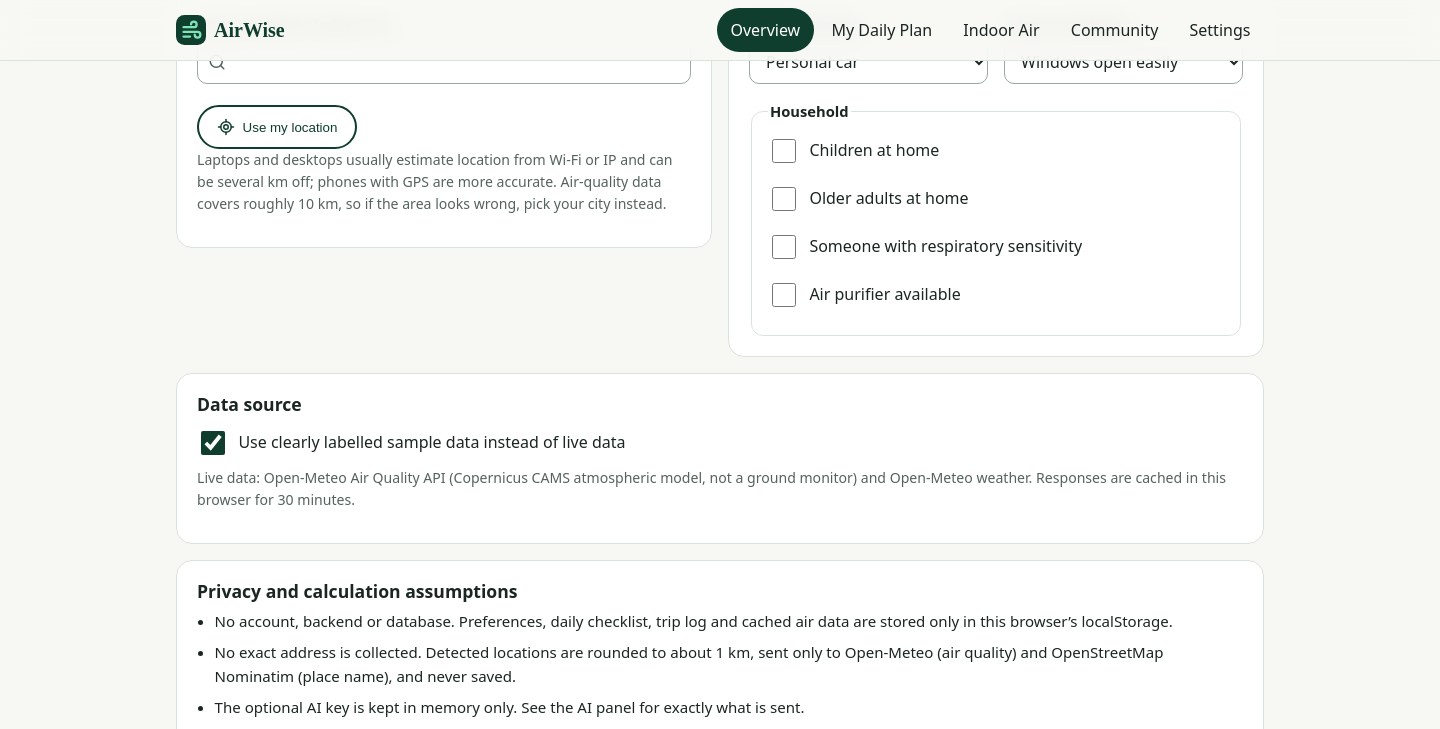
Test: settings interactions › lets the user change city, switch off sample data and cancel a reset
(page scrolled)
Click the checkbox labelled "Use clearly labelled sample data instead of live data": (213, 443) [201,431,225,455]
(page scrolled)
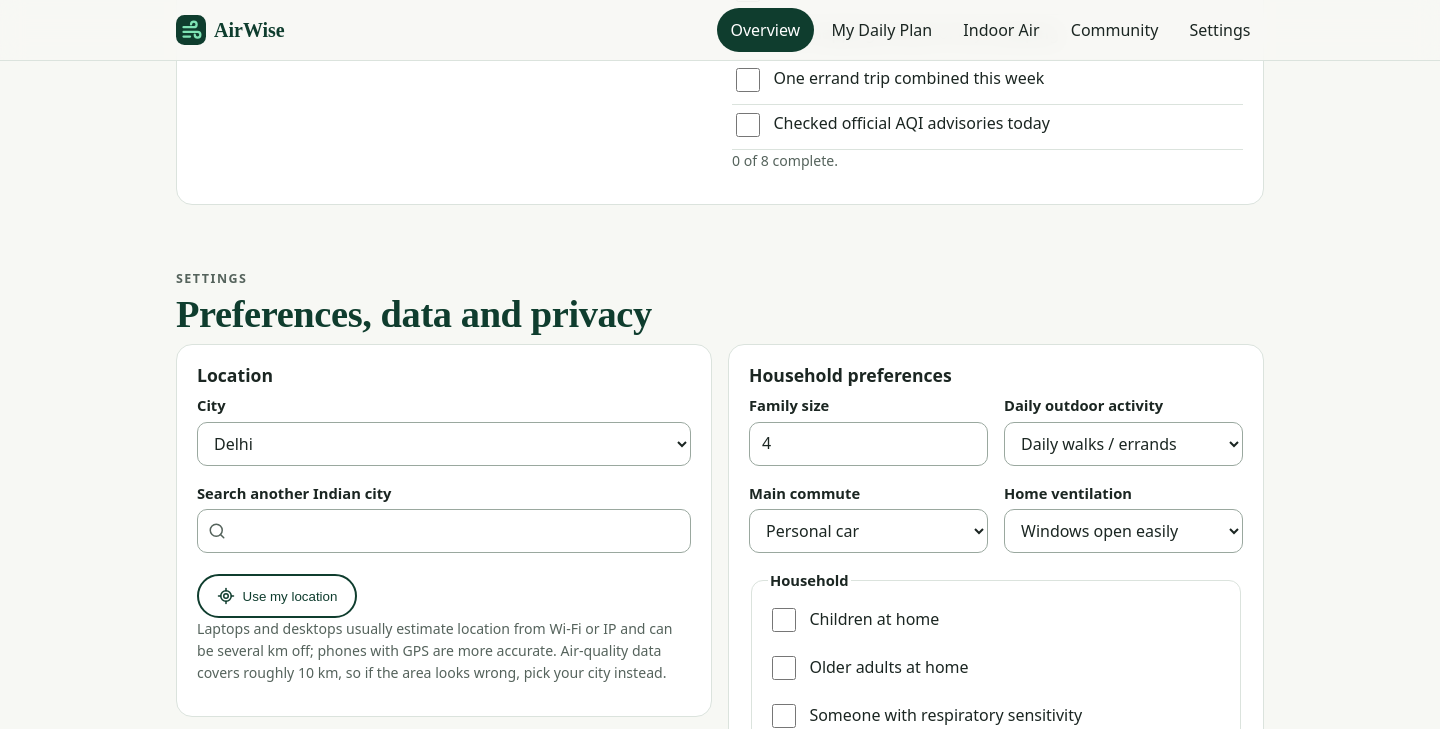
Select "Mumbai" in the dropdown labelled "City": (444, 444) [197,422,691,466]
(page scrolled)
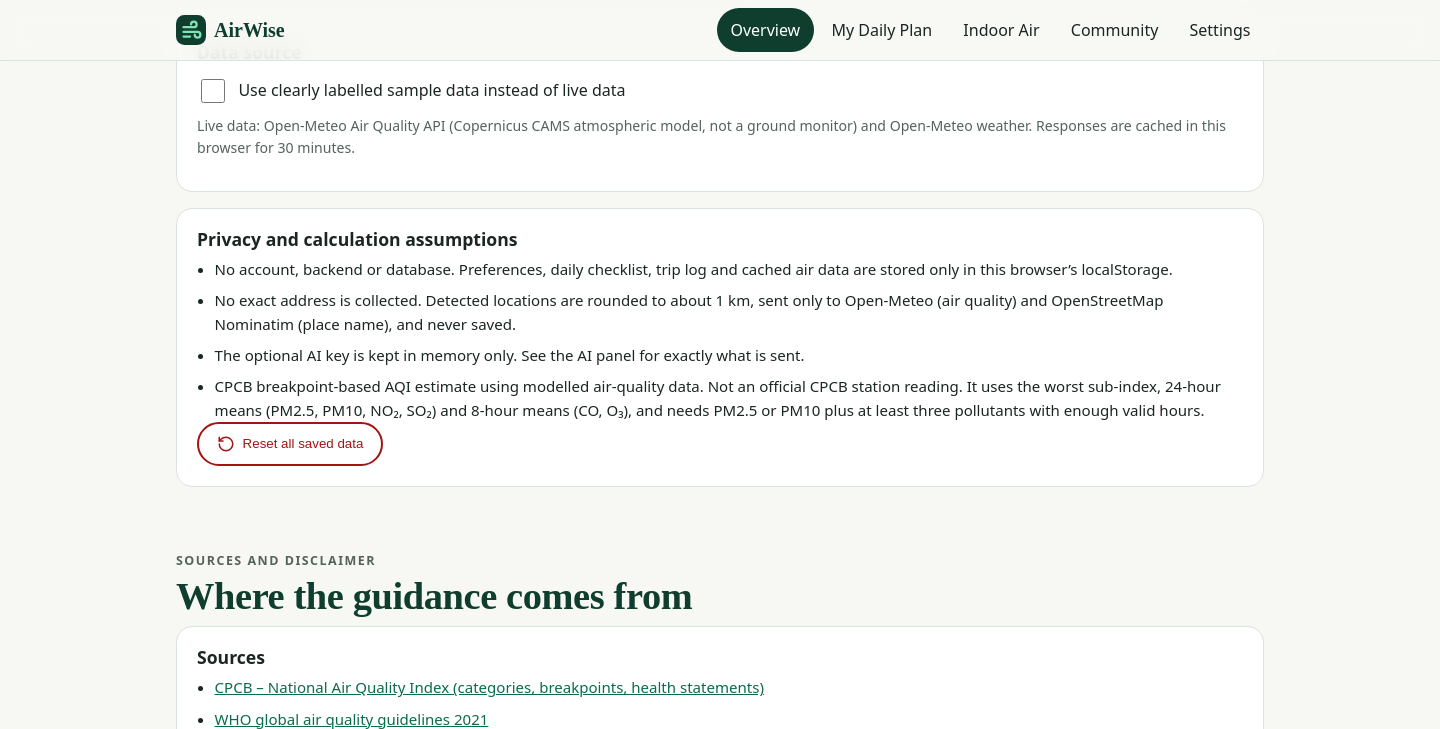
Click the button "Reset all saved data": (290, 444) [197,422,383,466]
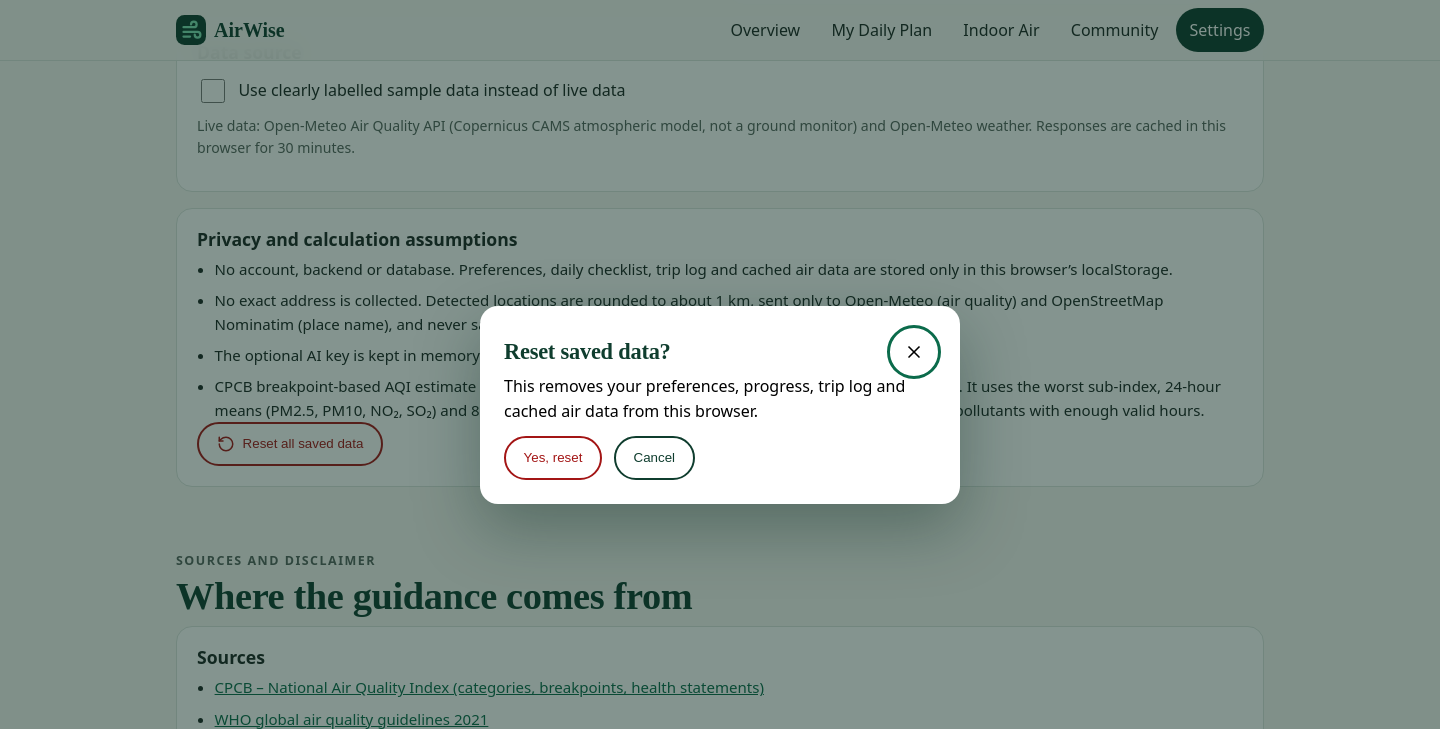
Click the button "Cancel": (654, 458) [614,436,695,480]
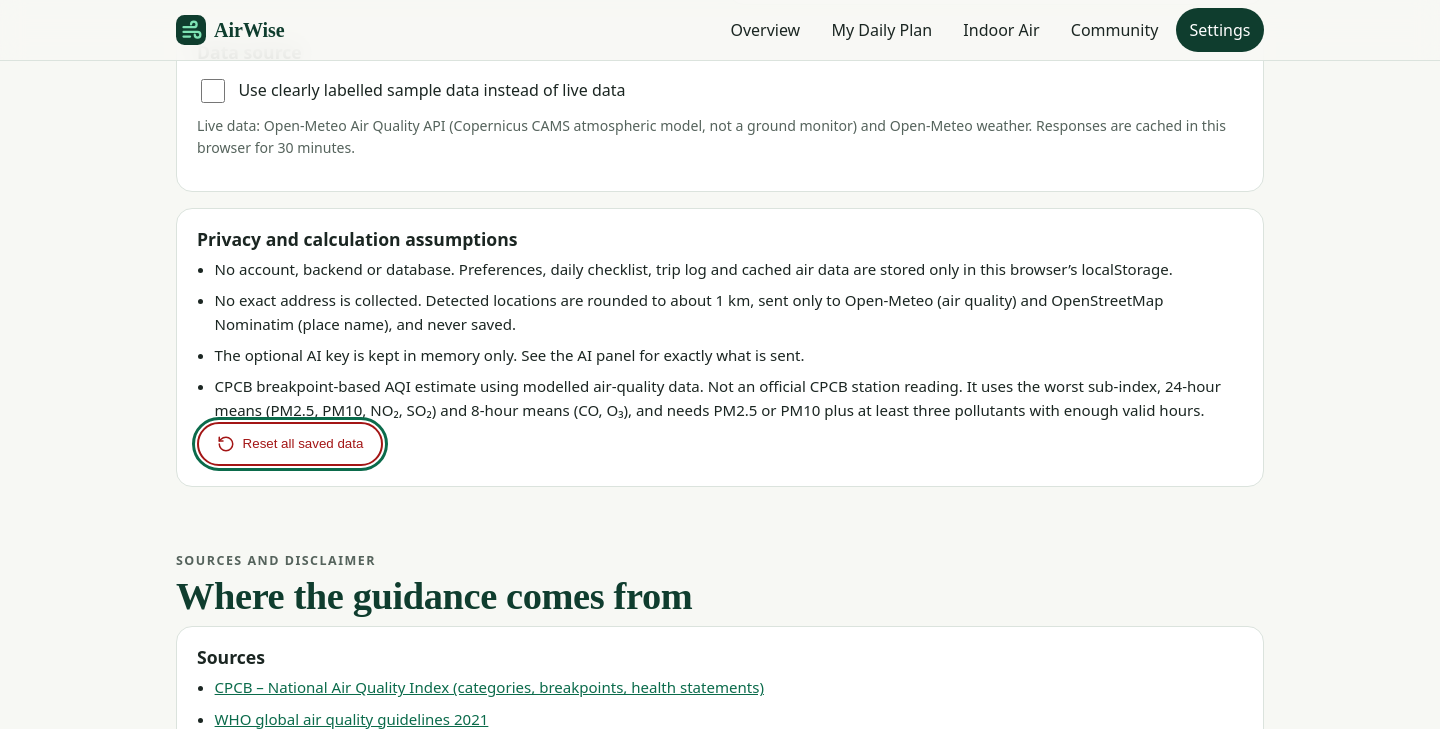
Expected: the heading "Reset saved data?" is gone
